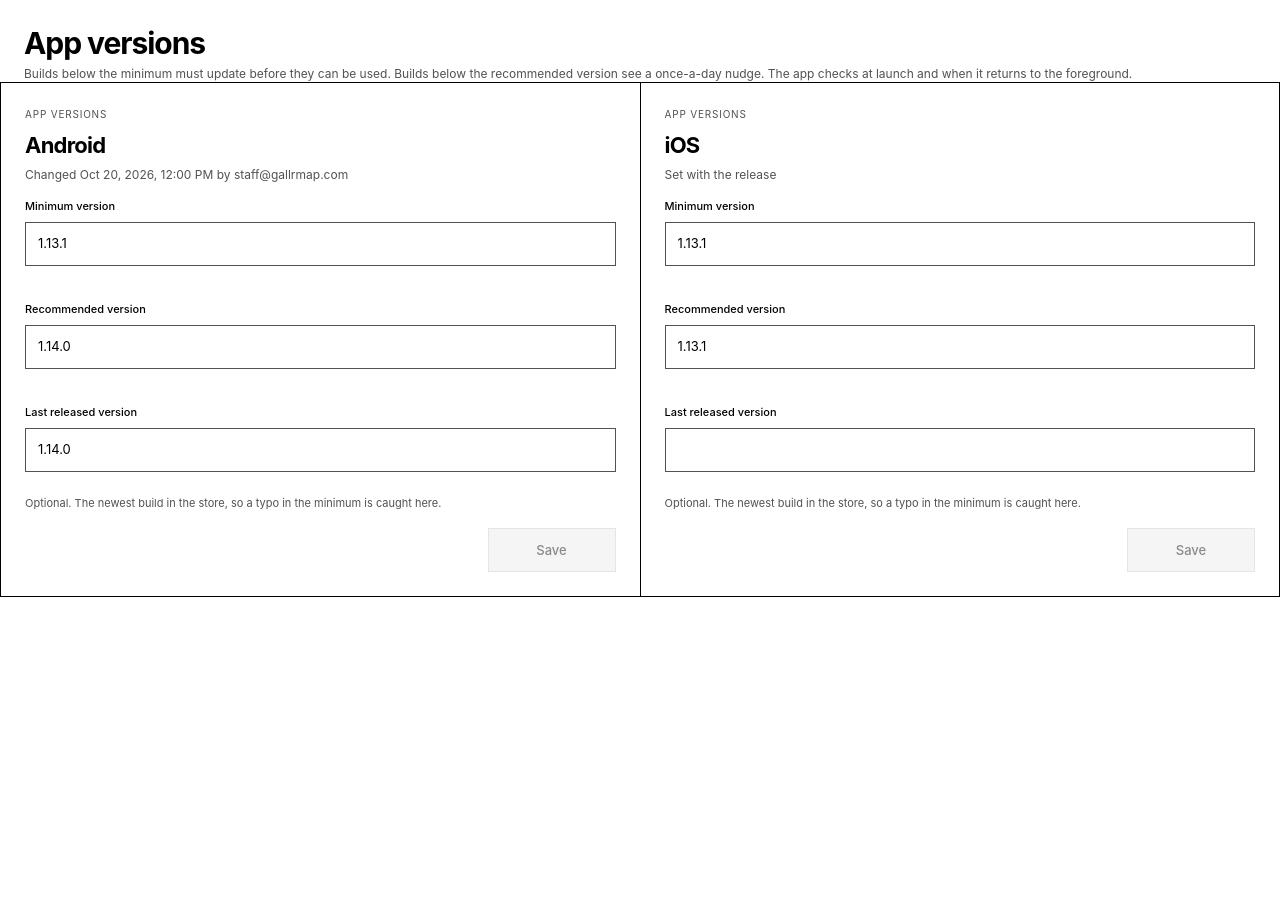
Scenario: AppVersionsWorkspace › refuses a recommended version below the minimum
Replace the text in the field labelled "Minimum version" below "Android" with "1.15.0" at (320, 244), box 25,222 -> 616,266
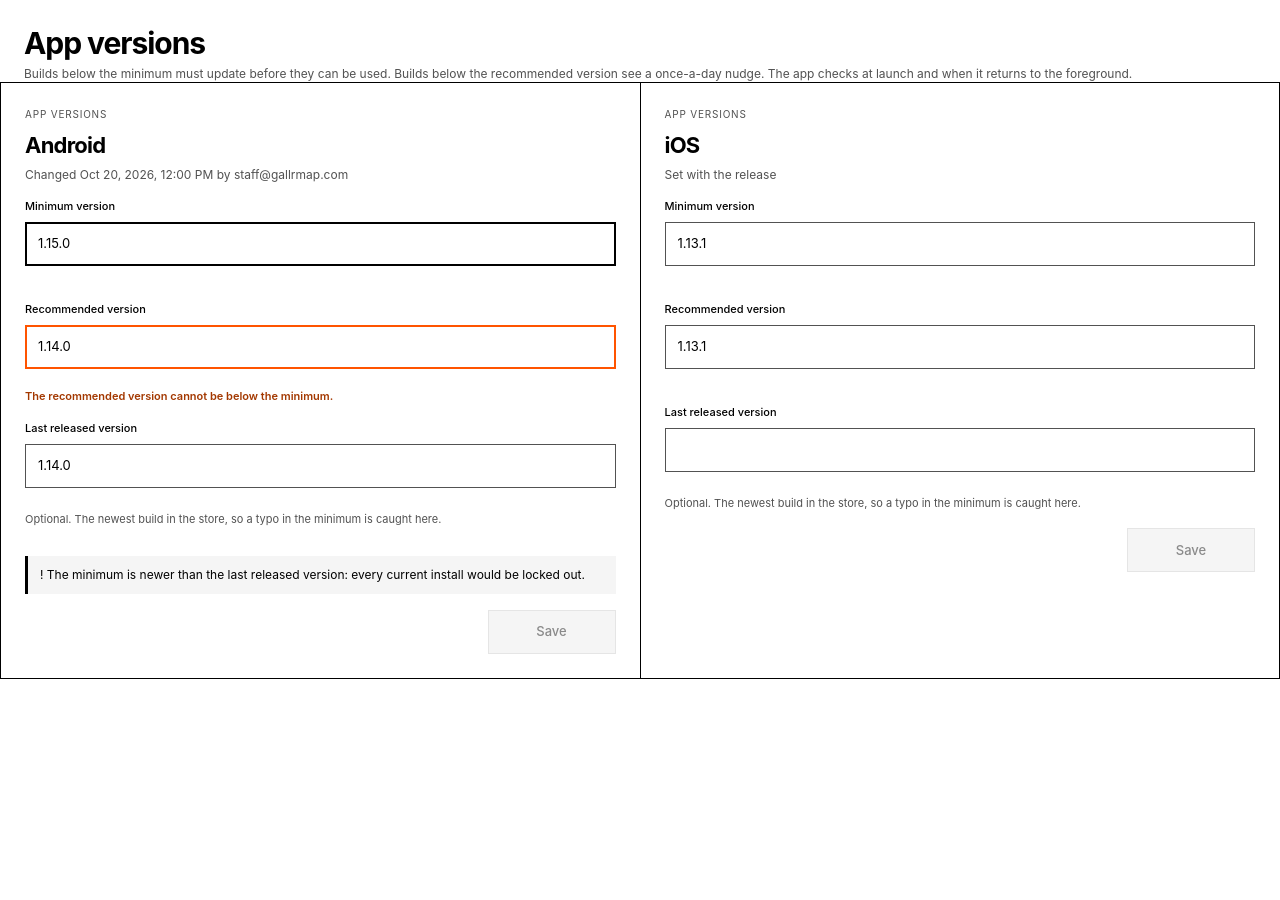
Check: the 2nd button "Save" is disabled, box 488,610 -> 616,654
Check: the message reads "The recommended version cannot be below the minimum.", box 25,389 -> 333,403
